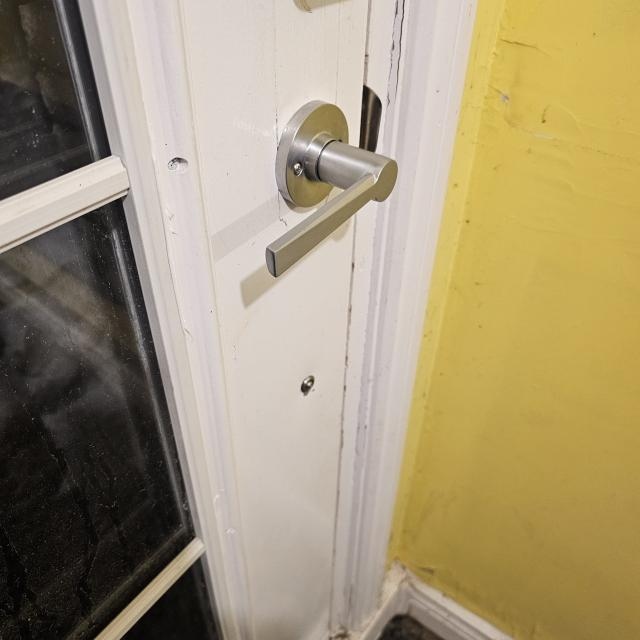door-handle: (266, 101, 398, 278)
